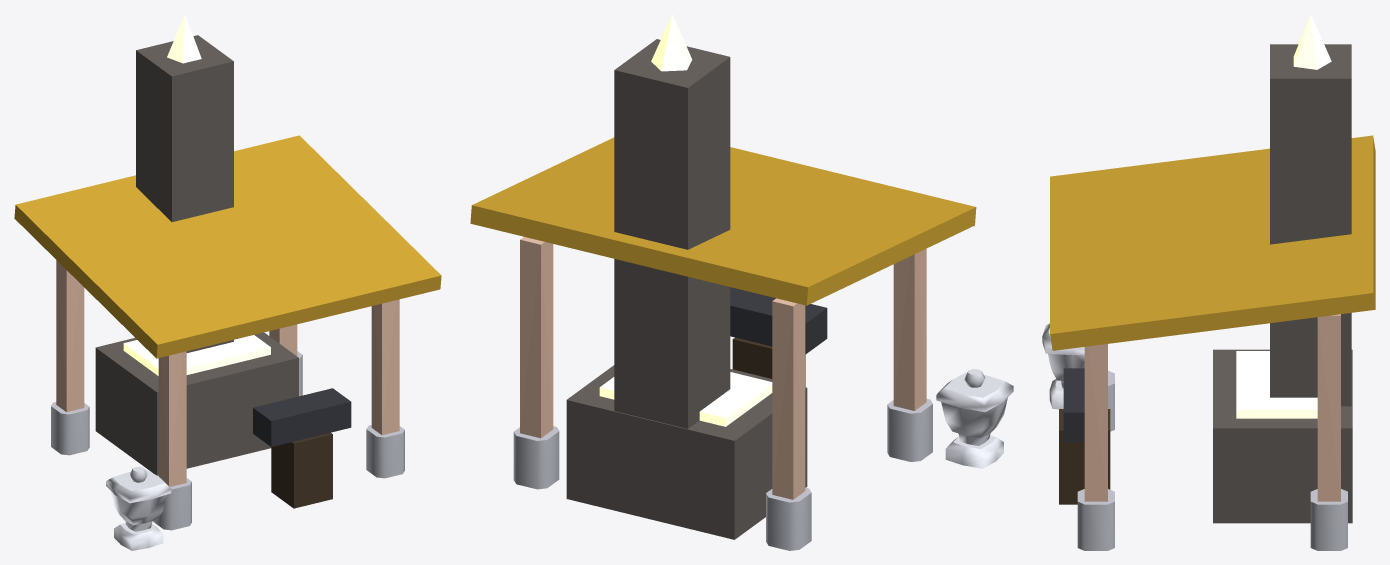
The model's file is forge_l1.glb.
3 views of the same model, side by side, from view 1: azimuth 30°, elevation 25°; view 2: azimuth 150°, elevation 25°; view 3: azimuth 270°, elevation 25° (orthographic). The views are drawn at different scales.
Parts seen in each view (by area): view 1: forge_l1; view 2: forge_l1; view 3: forge_l1.
Part boxes in pixels (x1,y1,x2,y2): forge_l1: [14, 14, 441, 550]; forge_l1: [470, 14, 1013, 550]; forge_l1: [1042, 14, 1375, 550].
Size of the model in its own units: 3.39 by 4.23 by 2.72.
